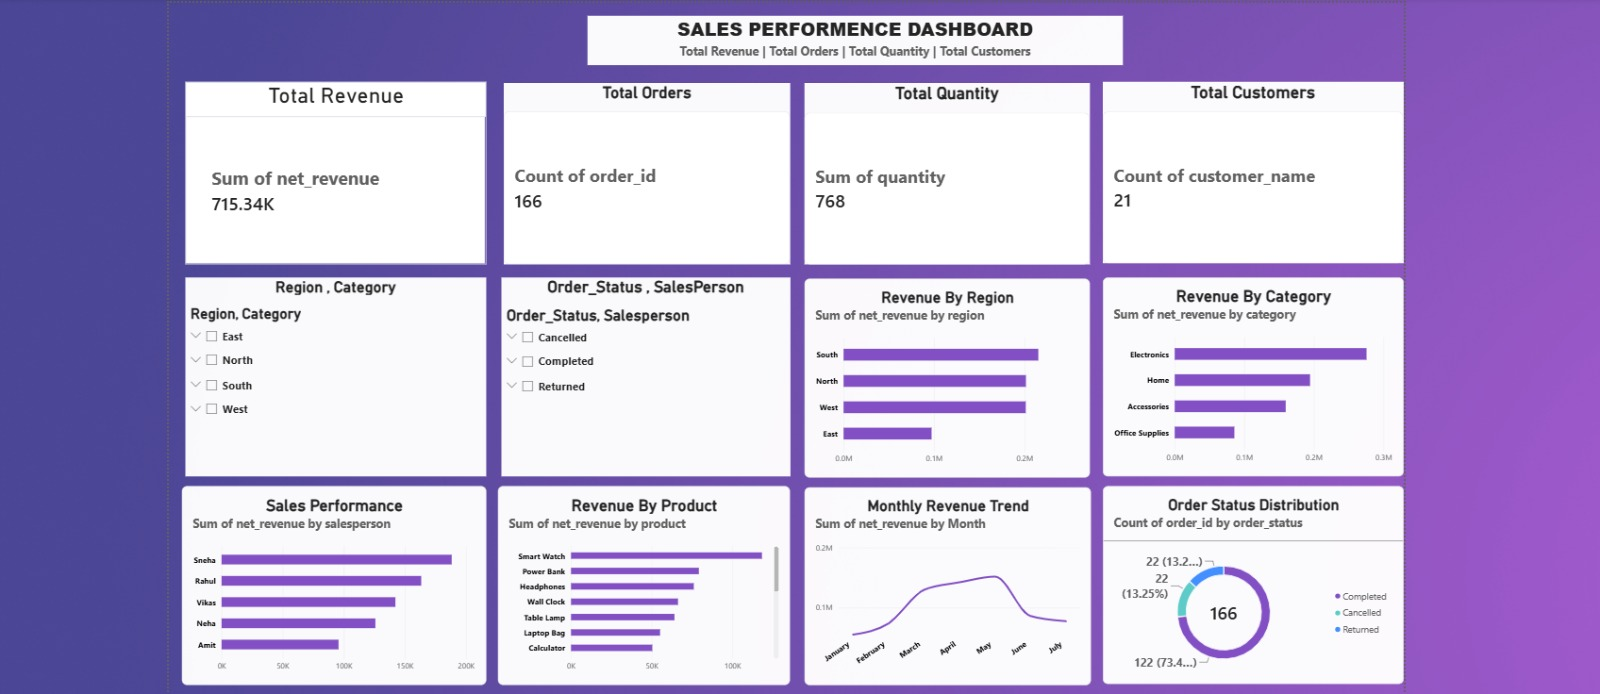

This screenshot's page, from the dashboard's own definition file:
{"tool":"powerbi","page":{"name":"Page 1","canvas":[1920,1080],"ordinal":0},"visuals":[{"type":"cardVisual","title":"Total_Revenue","fields":{"Data":["Sum(public sales.net_revenue)"]},"box":[25.7,122.9,467.7,284.3],"z":0},{"type":"cardVisual","title":"Total Orders","fields":{"Data":["Count(public sales.order_id)"]},"box":[520.9,124.7,445.7,282.5],"z":1000},{"type":"cardVisual","title":"Total Quantity","fields":{"Data":["Sum(public sales.quantity)"]},"box":[988.7,124.7,443.9,282.5],"z":2000},{"type":"cardVisual","title":"Total Customers","fields":{"Data":["Count(public sales.customer_name)"]},"box":[1452.7,122.9,467.7,282.5],"z":2001},{"type":"clusteredBarChart","title":"Revenue By Region","fields":{"Category":["public sales.region"],"Y":["Sum(public sales.net_revenue)"]},"box":[988.7,429.2,443.9,310],"z":2002},{"type":"clusteredBarChart","title":"Revenue By Category","fields":{"Category":["public sales.category"],"Y":["Sum(public sales.net_revenue)"]},"box":[1452.7,427.4,467.7,310],"z":2003},{"type":"clusteredBarChart","title":"Revenue By Product","fields":{"Category":["public sales.product"],"Y":["Sum(public sales.net_revenue)"]},"box":[511.8,752,454.2,309.5],"z":2004},{"type":"clusteredBarChart","title":"Sales Performance","fields":{"Category":["public sales.salesperson"],"Y":["Sum(public sales.net_revenue)"]},"box":[20.2,752,473.2,310],"z":2005},{"type":"lineChart","title":"Monthly Revenue Trend","fields":{"Category":["public sales.order_date.Variation.Date Hierarchy.Month"],"Y":["Sum(public sales.net_revenue)"]},"box":[988.7,753.9,445.7,308.2],"z":2006},{"type":"donutChart","title":"Order Status Distribution","fields":{"Category":["public sales.order_status"],"Y":["CountNonNull(public sales.order_id)"]},"box":[1452.7,752,467.7,308.2],"z":2007},{"type":"slicer","title":"Region , Category","fields":{"Values":["public sales.region","public sales.category"]},"box":[25.7,427.4,467.7,310],"z":2008},{"type":"textbox","title":"SALES PERFORMENCE DASHBOARD","box":[651.2,20.2,832.7,77],"z":2009},{"type":"actionButton","box":[0,0,100,40],"z":2012},{"type":"slicer","title":"Order_Status , SalesPerson","fields":{"Values":["public sales.order_status","public sales.salesperson"]},"box":[517.3,427.4,449.4,310],"z":2013}]}

Visuals, with their boxes in screenshot pixels (x1, y1, x2, y2):
"Total_Revenue" cardVisual: [x1=187, y1=82, x2=484, y2=263]
"Total Orders" cardVisual: [x1=502, y1=83, x2=785, y2=263]
"Total Quantity" cardVisual: [x1=799, y1=83, x2=1081, y2=263]
"Total Customers" cardVisual: [x1=1094, y1=82, x2=1391, y2=262]
"Revenue By Region" clusteredBarChart: [x1=799, y1=277, x2=1081, y2=474]
"Revenue By Category" clusteredBarChart: [x1=1094, y1=276, x2=1391, y2=473]
"Revenue By Product" clusteredBarChart: [x1=496, y1=482, x2=785, y2=679]
"Sales Performance" clusteredBarChart: [x1=184, y1=482, x2=484, y2=679]
"Monthly Revenue Trend" lineChart: [x1=799, y1=483, x2=1082, y2=679]
"Order Status Distribution" donutChart: [x1=1094, y1=482, x2=1391, y2=678]
"Region , Category" slicer: [x1=187, y1=276, x2=484, y2=473]
"SALES PERFORMENCE DASHBOARD" textbox: [x1=585, y1=17, x2=1114, y2=66]
actionButton: [x1=171, y1=4, x2=234, y2=30]
"Order_Status , SalesPerson" slicer: [x1=500, y1=276, x2=785, y2=473]
